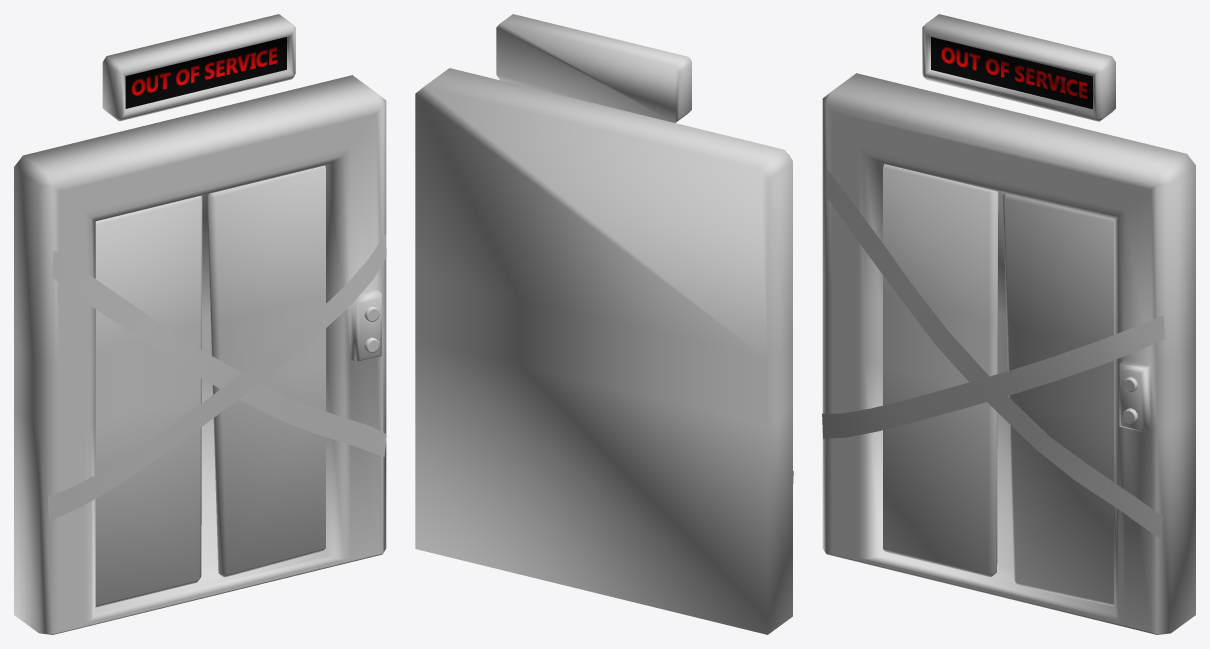
Rendered from Ascenseur.fbx.
The picture shows the model from 3 angles, left to right: view 1: azimuth 30°, elevation 25°; view 2: azimuth 150°, elevation 25°; view 3: azimuth 330°, elevation 25°; orthographic projection.
Visible parts, largest first — view 1: ascenseur.002; view 2: ascenseur.002; view 3: ascenseur.002.
Boxes of the visible parts, x1,y1,x2,y2 form: ascenseur.002: (14,14,386,634); ascenseur.002: (415,14,793,634); ascenseur.002: (822,14,1195,634).
Size of the model in its own units: 399 by 590 by 89.91.
